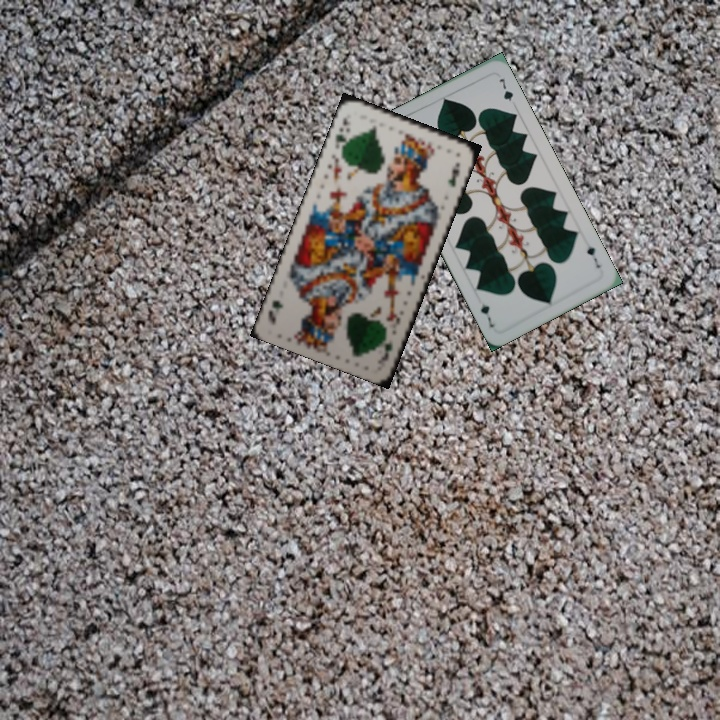G7: (582, 237, 603, 271)
GK: (331, 111, 351, 152), (380, 330, 395, 358)
